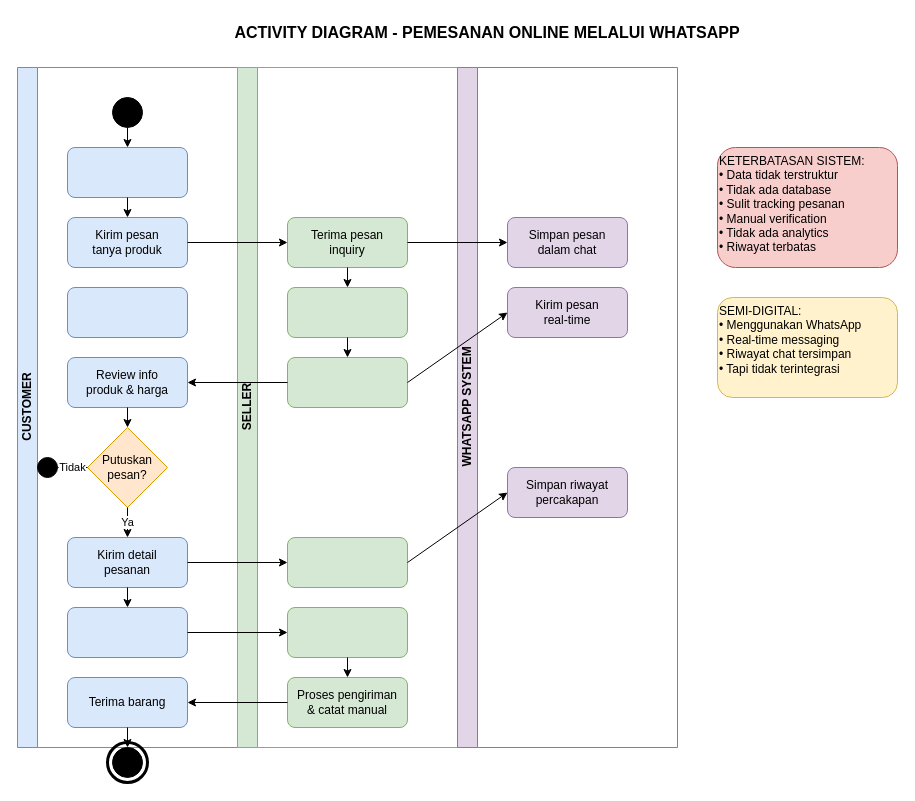
Image size: 915x801. Some labels were removed from this diagram. Each missing label, with the centre of its shape:
Buka aplikasi WhatsApp: (127,172)
Cek ketersediaan produk manual: (347,312)
Kirim info produk, harga, & payment: (347,382)
Lakukan pembayaran: (127,632)
Terima detail pesanan: (347,562)
Tunggu respon dari seller: (127,312)
Verifikasi pembayaran manual: (347,632)
